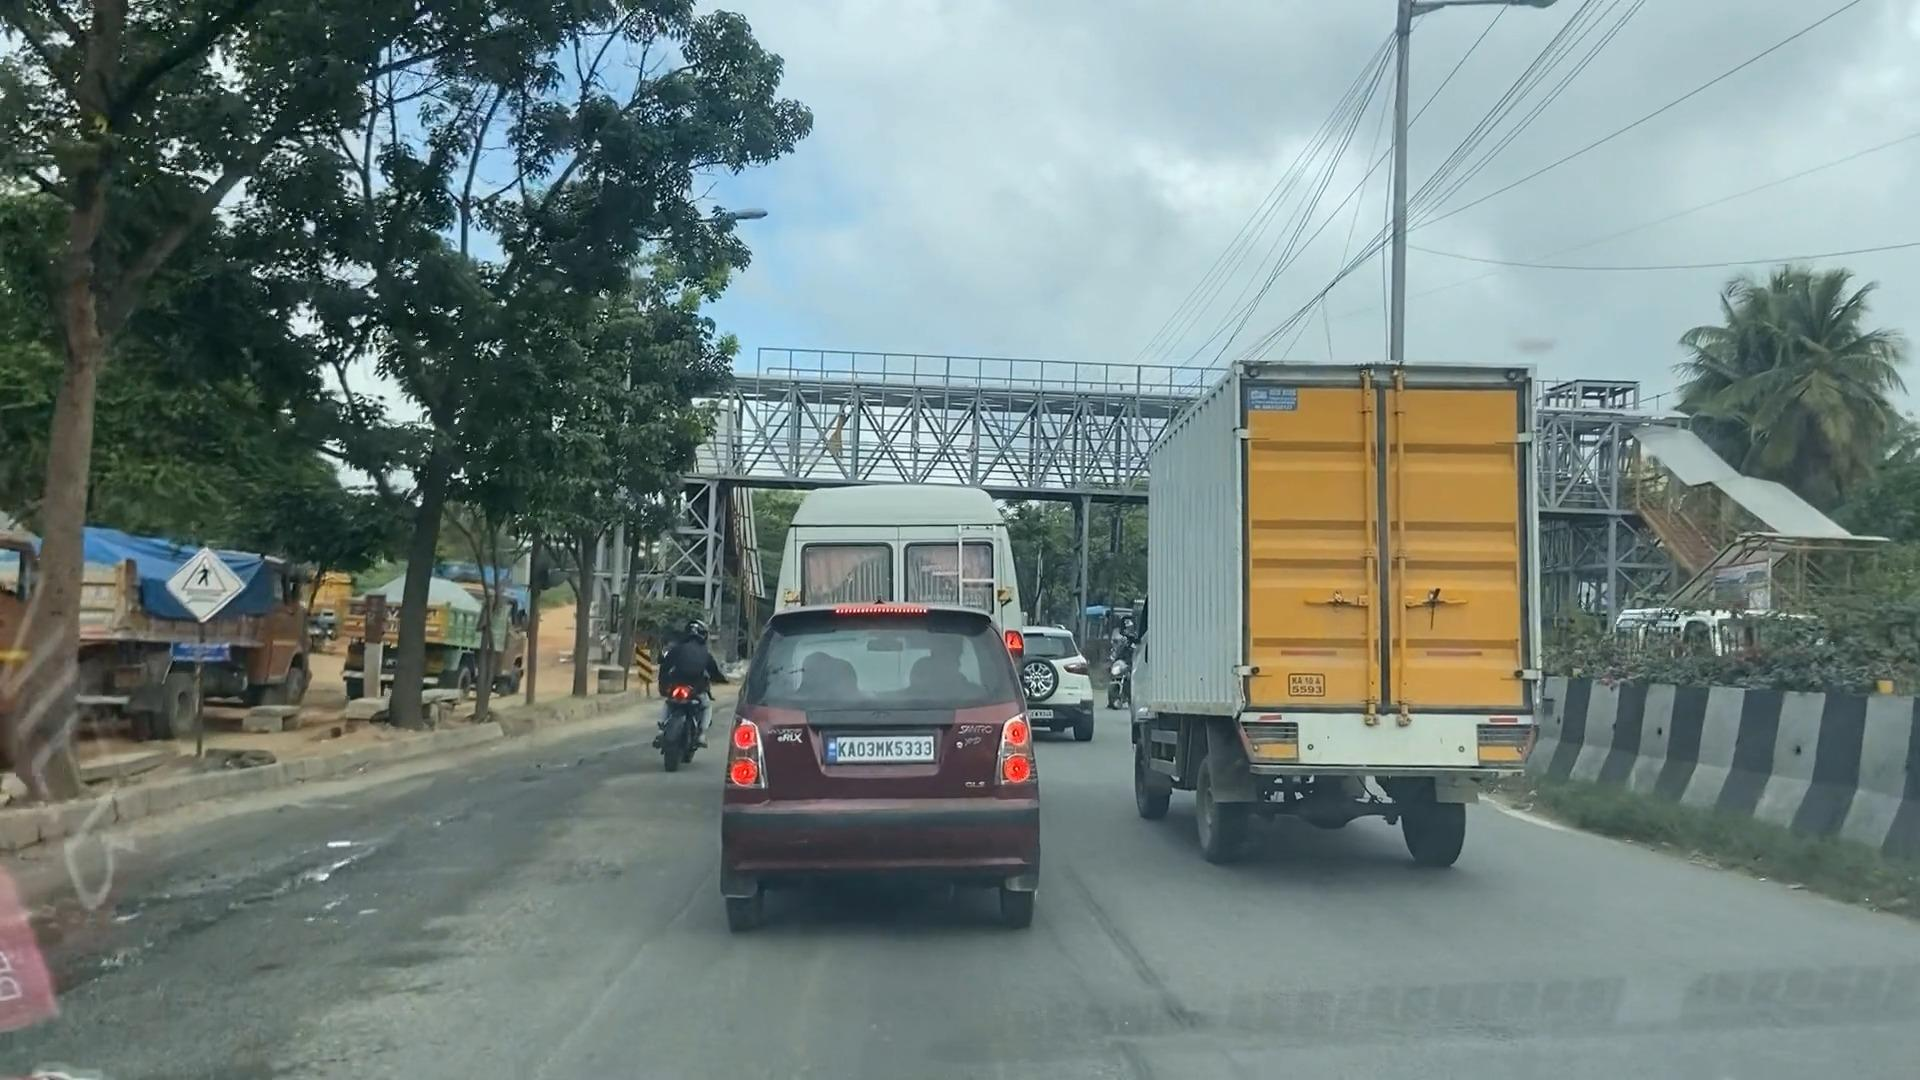HMV: (1137, 371, 1524, 872)
LMV: (731, 600, 1042, 913), (658, 630, 709, 756)
RoadDamages: (70, 787, 452, 1018), (502, 923, 675, 1080), (1071, 930, 1216, 1080), (538, 827, 624, 910)
